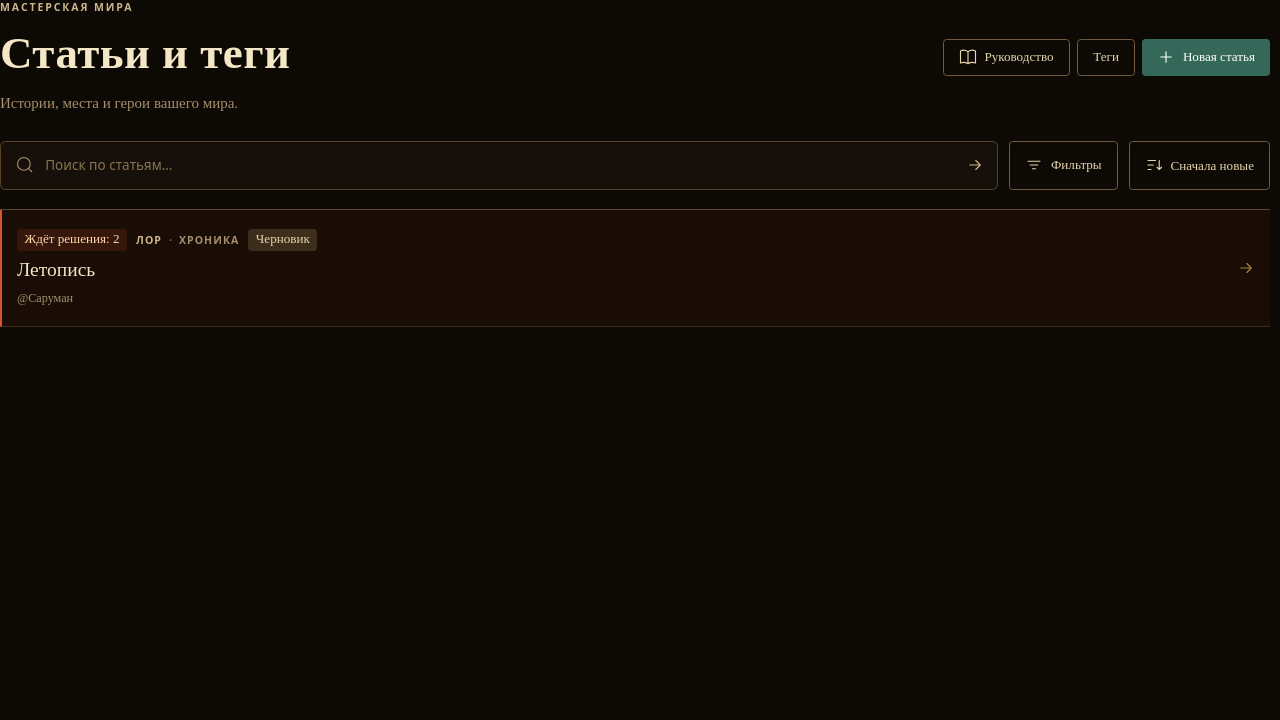
Article editor workspace › opens and closes the writing guide from /gm/articles without losing drafts
The image size is (1280, 720).
Click the button "Руководство" at {"x": 1006, "y": 57}, box [943, 38, 1070, 76]
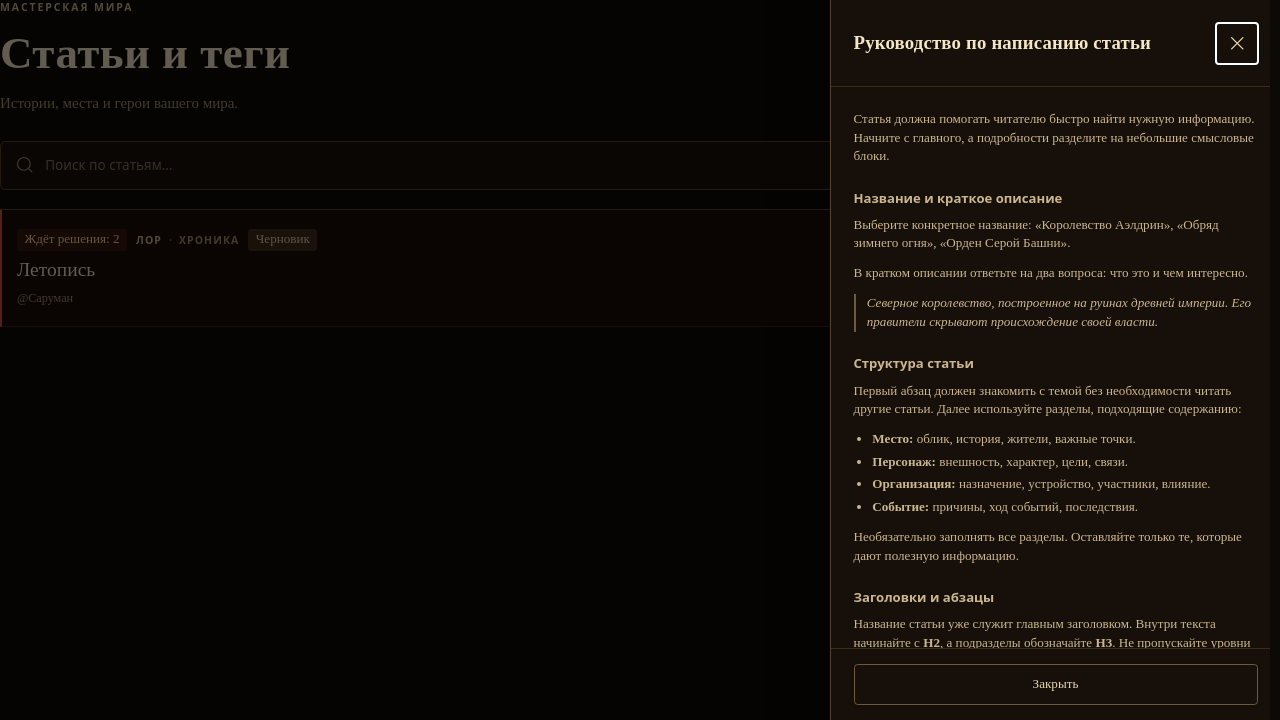
Click the button "Закрыть" at {"x": 1056, "y": 684}, box [854, 664, 1258, 705]
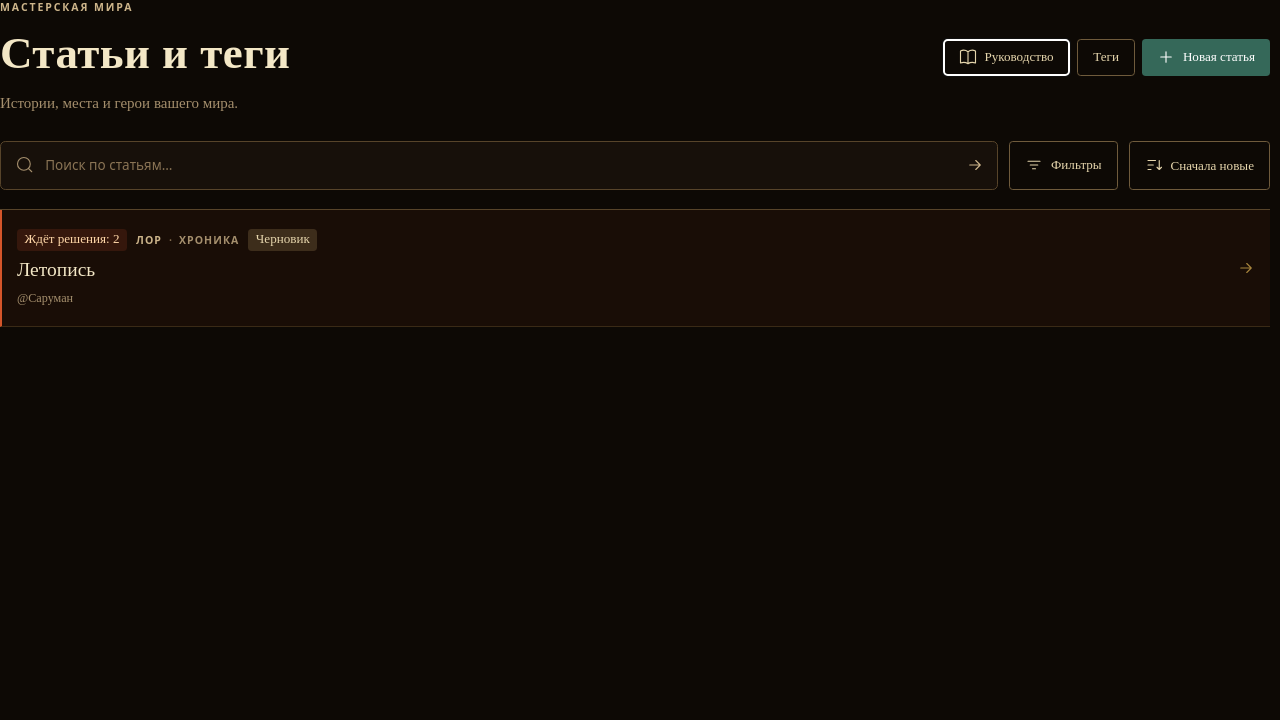
Check: the dialog is gone
Click the button "Руководство" at {"x": 1006, "y": 57}, box [943, 38, 1070, 76]
(page scrolled)
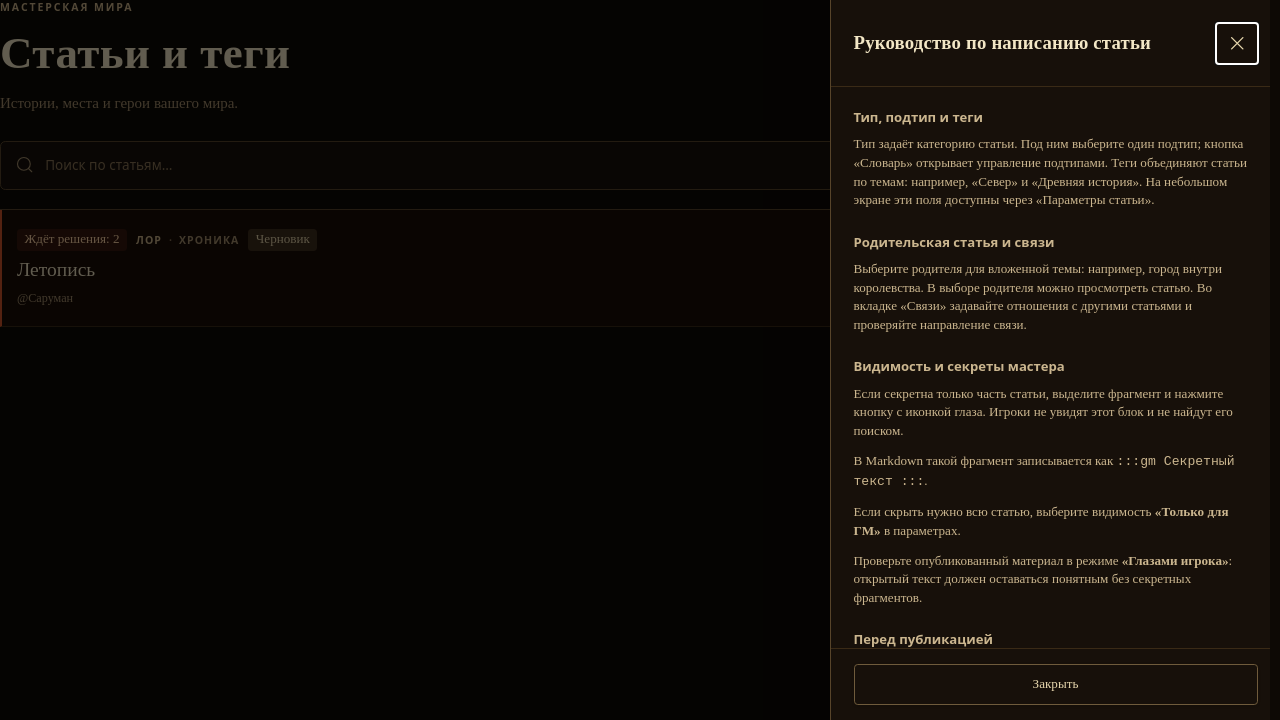
Check: the heading "Видимость и секреты мастера" is shown, box [854, 357, 1065, 375]
Press Escape
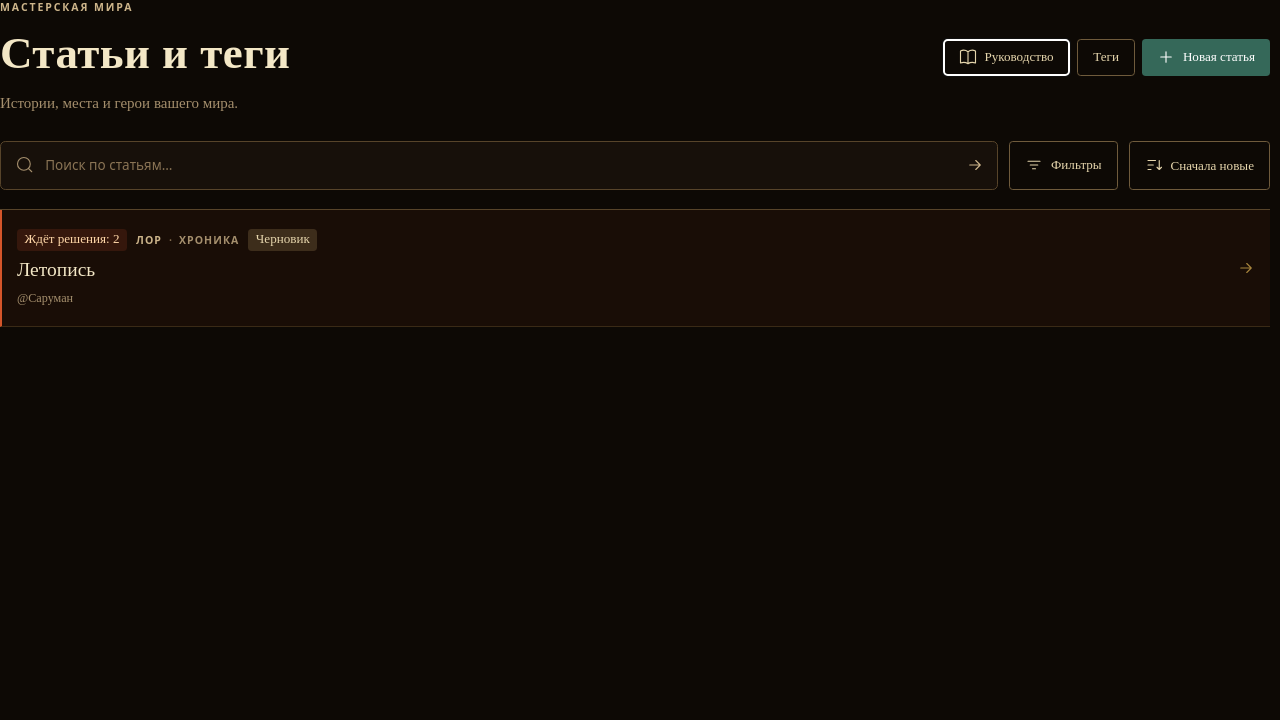
Check: the dialog is gone
Click the button "Руководство" at {"x": 1006, "y": 57}, box [943, 38, 1070, 76]
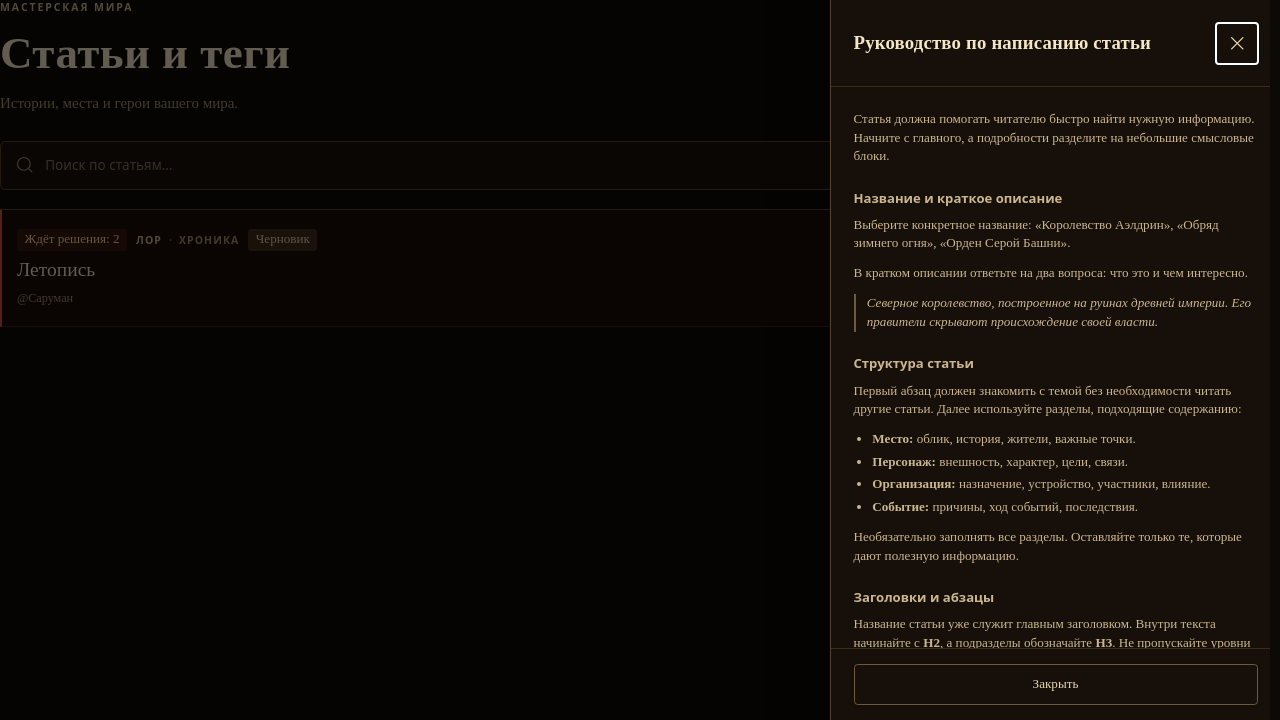
Click the button named "Закрыть руководство" at {"x": 1237, "y": 43}, box [1216, 22, 1258, 64]
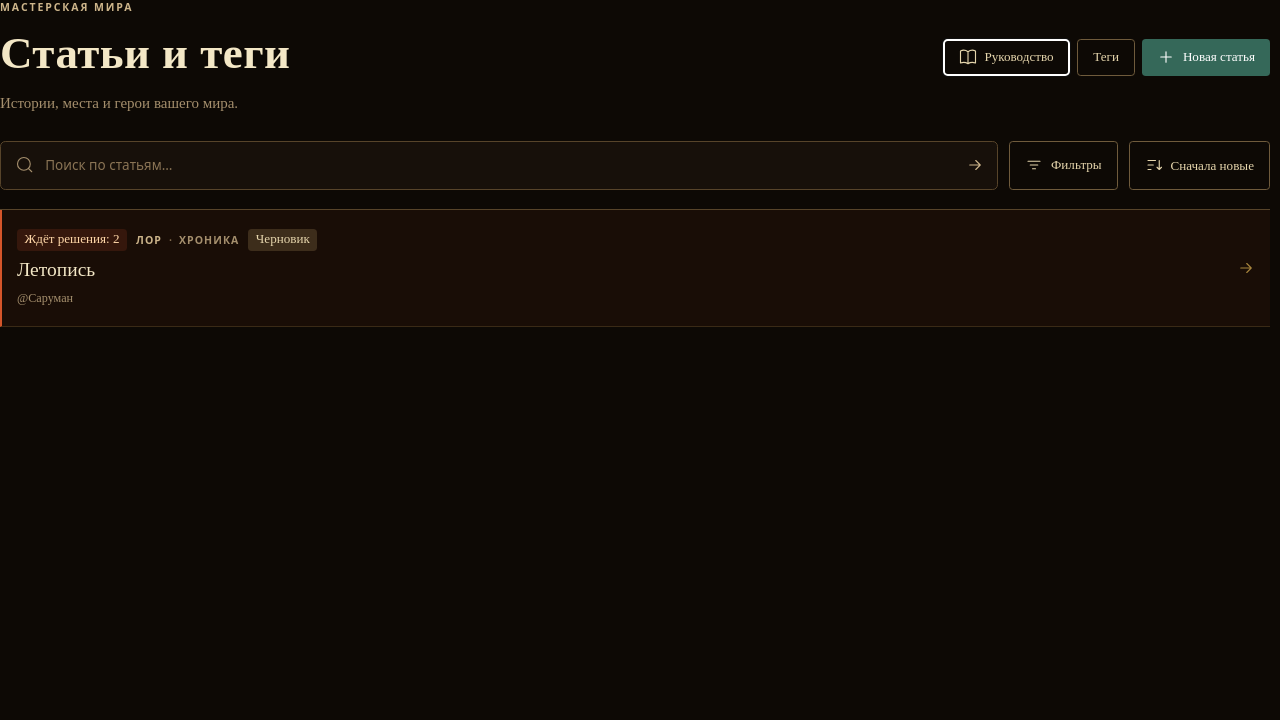
Check: the dialog is gone
